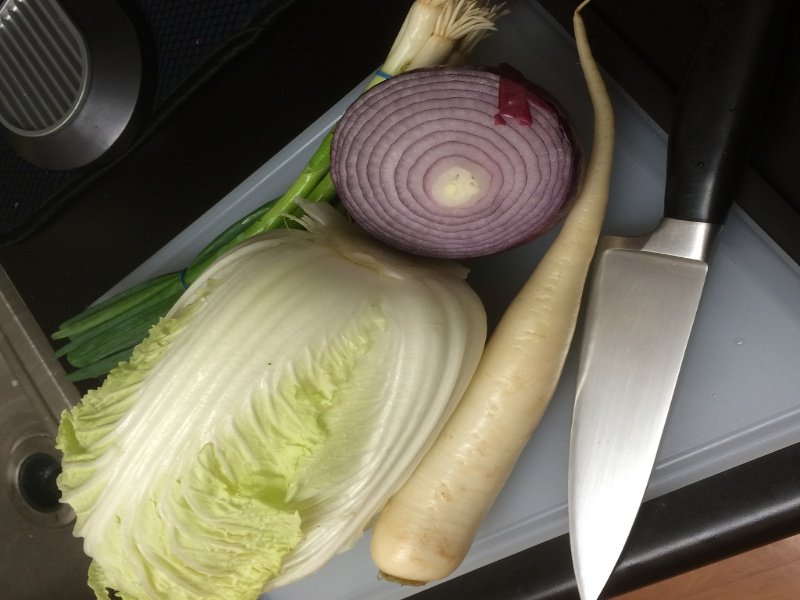knife: (566, 1, 777, 600)
